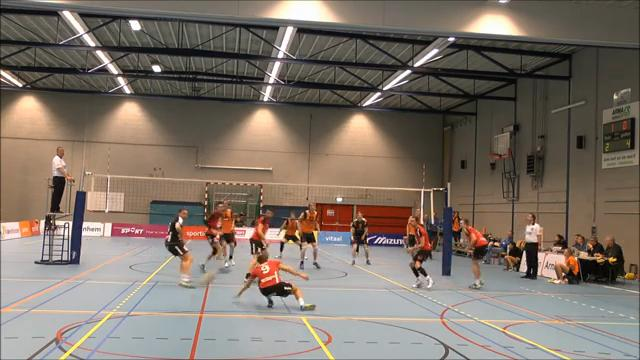Dig: (228, 248, 321, 314)
Player: (165, 209, 193, 287), (245, 210, 273, 279), (407, 217, 433, 287), (462, 219, 487, 288), (199, 204, 221, 271), (299, 203, 320, 269), (276, 212, 301, 257), (220, 200, 236, 267), (350, 212, 370, 264), (406, 216, 418, 247)
ball: (199, 271, 216, 287)
